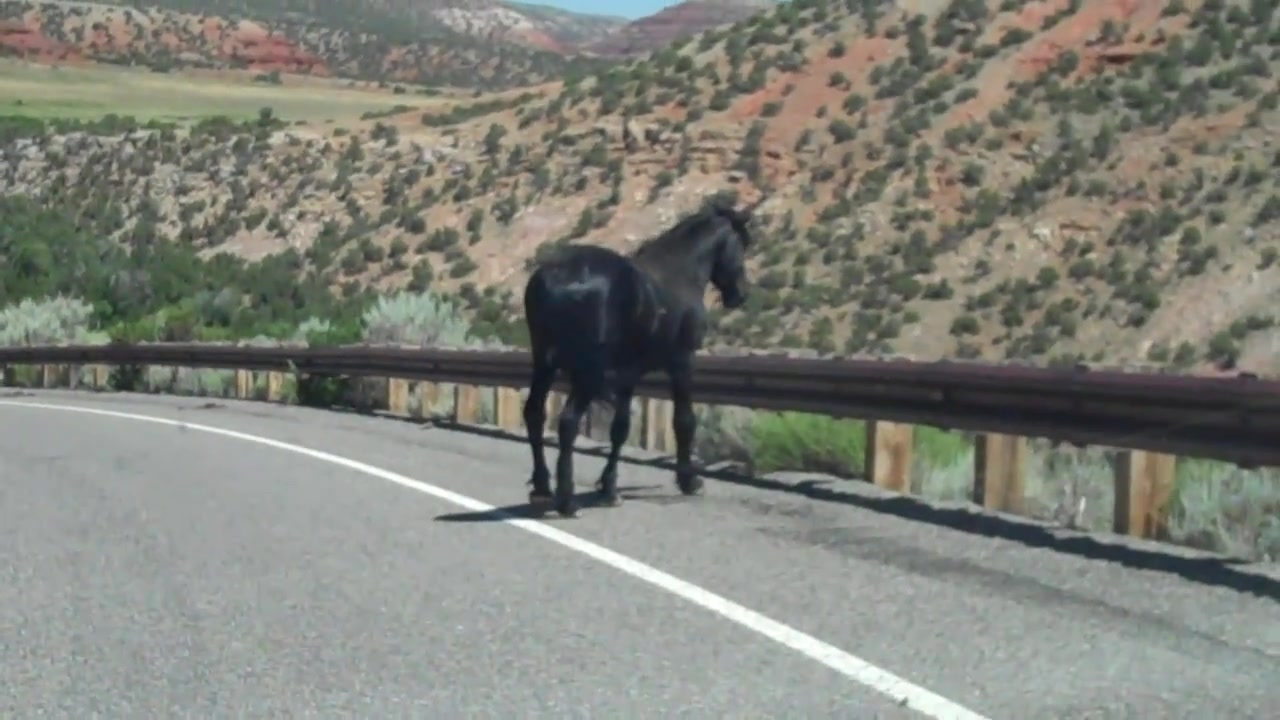horse: (524, 200, 761, 519)
